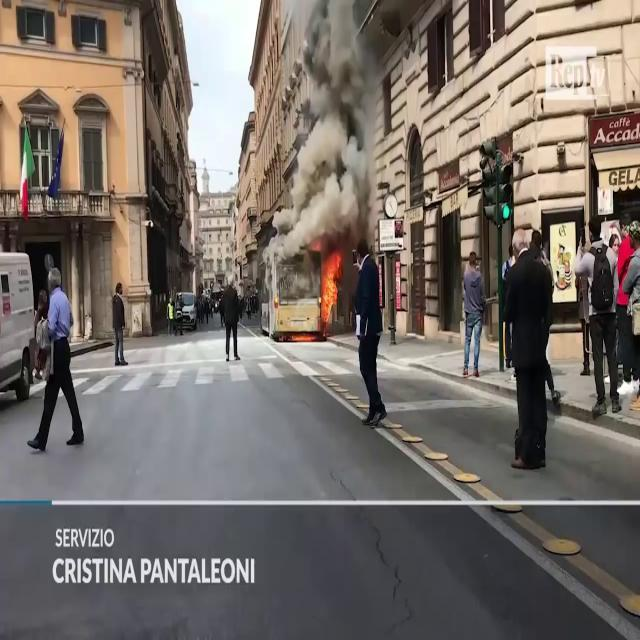Fire: (316, 245, 344, 328)
Smoke: (278, 2, 390, 250)
